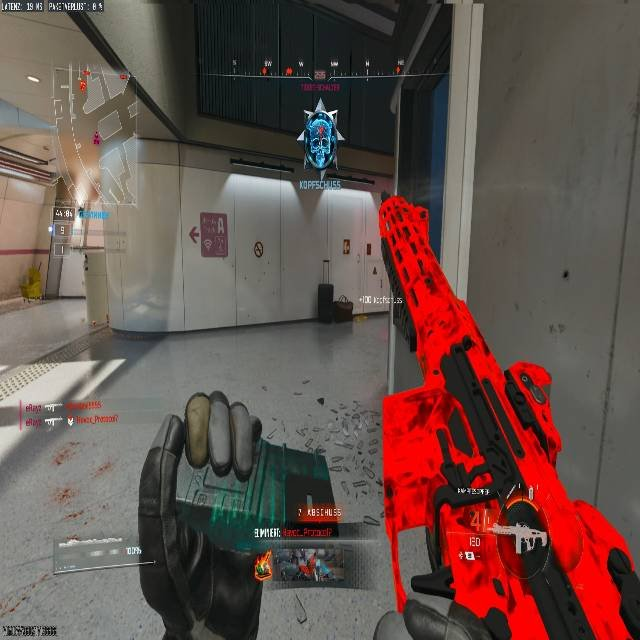head: (314, 97, 327, 113)
player: (298, 97, 339, 170)
